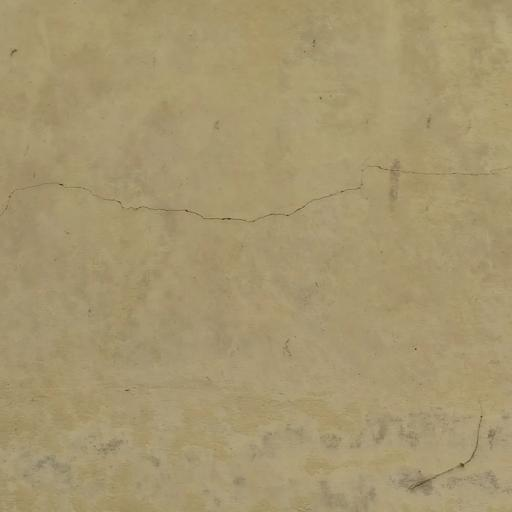minor_crack: (0, 151, 512, 231), (390, 373, 512, 512)
